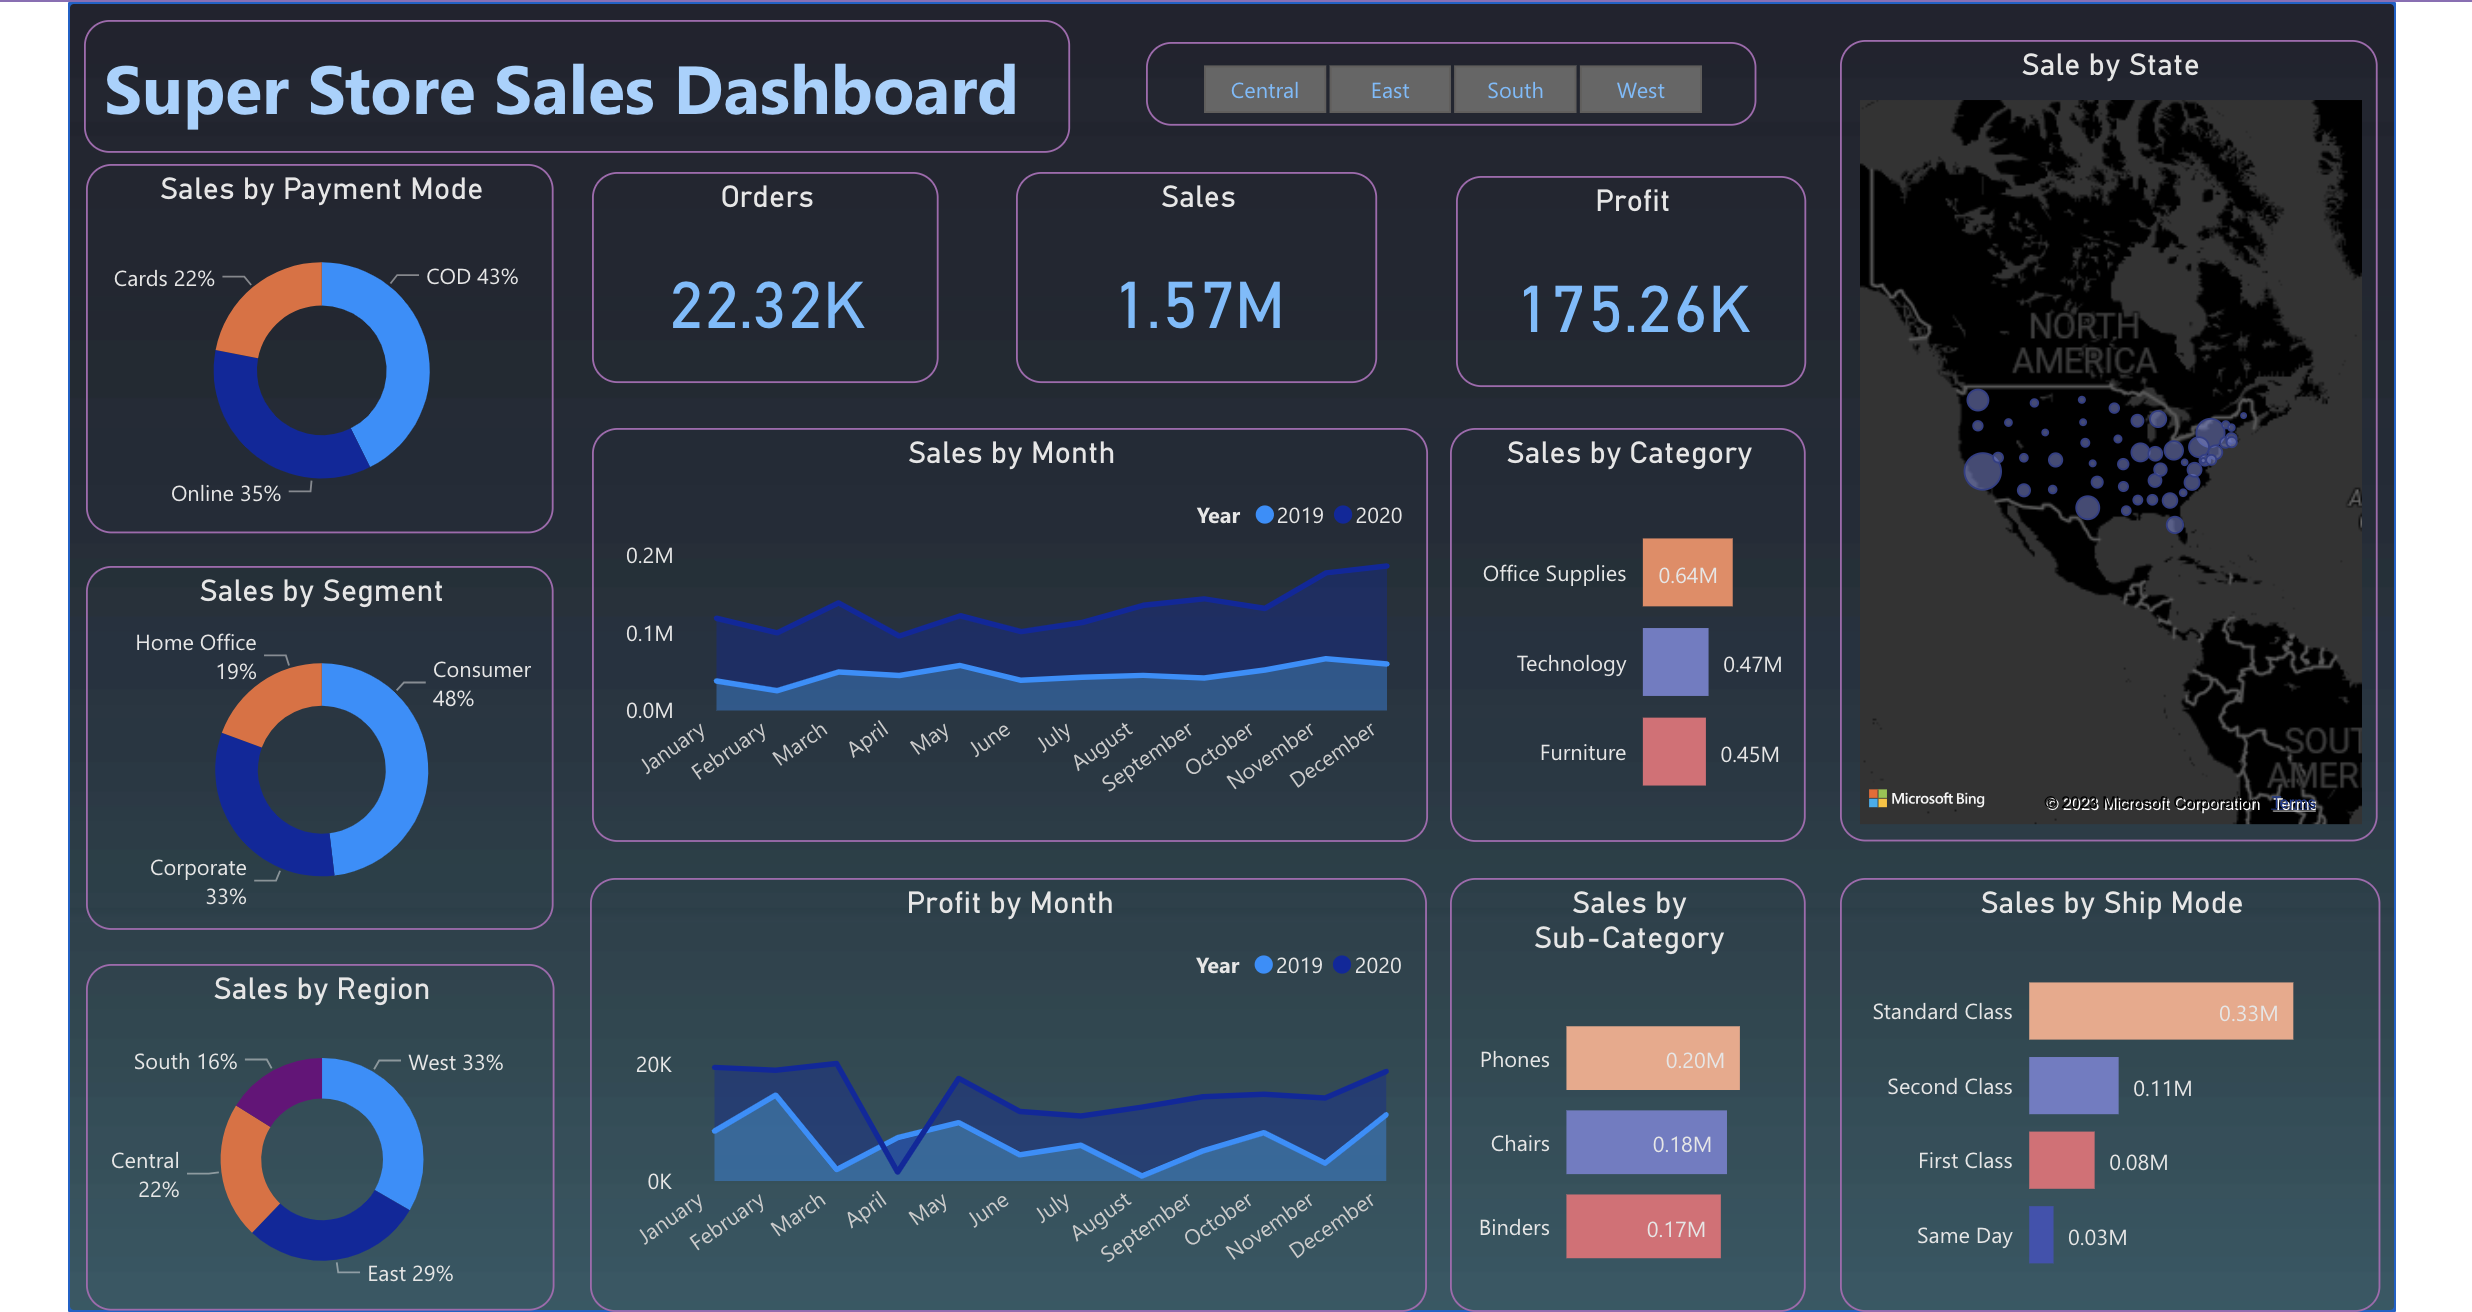

Layout of this report page (visuals, bound fields, positions):
{"tool":"powerbi","page":{"name":"Page 1","canvas":[1280,720],"ordinal":0},"visuals":[{"type":"clusteredBarChart","title":"Sales by Category","fields":{"Category":["SuperStore_Sales_Dataset.Category"],"Y":["Sum(SuperStore_Sales_Dataset.Sales)"]},"box":[768.6,225.7,195.7,227.1],"z":0},{"type":"clusteredBarChart","title":"Sales by Sub-Category","fields":{"Category":["SuperStore_Sales_Dataset.Sub-Category"],"Y":["Sum(SuperStore_Sales_Dataset.Sales)"]},"box":[768.6,481.4,195.7,238.6],"z":1000},{"type":"clusteredBarChart","title":"Sales by Ship Mode","fields":{"Category":["SuperStore_Sales_Dataset.Ship Mode"],"Y":["Sum(SuperStore_Sales_Dataset.Sales)"]},"box":[974.3,481.4,297.1,238.6],"z":2000},{"type":"stackedAreaChart","title":"Sales by Month","fields":{"Y":["Sum(SuperStore_Sales_Dataset.Sales)"],"Series":["SuperStore_Sales_Dataset.Order Date.Variation.Date Hierarchy.Year"],"Category":["SuperStore_Sales_Dataset.Order Date.Variation.Date Hierarchy.Month","SuperStore_Sales_Dataset.Order Date.Variation.Date Hierarchy.Day"]},"box":[287.1,225.7,460,227.1],"z":3000},{"type":"stackedAreaChart","title":"Profit by Month","fields":{"Series":["SuperStore_Sales_Dataset.Order Date.Variation.Date Hierarchy.Year"],"Category":["SuperStore_Sales_Dataset.Order Date.Variation.Date Hierarchy.Month","SuperStore_Sales_Dataset.Order Date.Variation.Date Hierarchy.Day"],"Y":["Sum(SuperStore_Sales_Dataset.Profit)"]},"box":[287.1,481.4,460,238.6],"z":4000},{"type":"map","title":"Sale by State","fields":{"Category":["SuperStore_Sales_Dataset.State"],"Size":["Sum(SuperStore_Sales_Dataset.Sales)"]},"box":[974.3,12.9,295.7,440],"z":5000},{"type":"donutChart","title":"Sales by Segment","fields":{"Category":["SuperStore_Sales_Dataset.Segment"],"Y":["Sum(SuperStore_Sales_Dataset.Sales)"]},"box":[10,305.7,257.1,200],"z":6000},{"type":"donutChart","title":"Sales by Payment Mode","fields":{"Category":["SuperStore_Sales_Dataset.Payment Mode"],"Y":["Sum(SuperStore_Sales_Dataset.Sales)"]},"box":[10,88.6,257.1,202.9],"z":7000},{"type":"slicer","fields":{"Values":["SuperStore_Sales_Dataset.Region"]},"box":[618.6,12.9,334.3,45.7],"z":8000},{"type":"textbox","box":[0,12.9,605.7,62.9],"z":9000},{"type":"card","title":"Sales","fields":{"Values":["Sum(SuperStore_Sales_Dataset.Sales)"]},"box":[505.7,88.6,198.6,117.1],"z":10000},{"type":"card","title":"Orders","fields":{"Values":["Sum(SuperStore_Sales_Dataset.Quantity)"]},"box":[287.1,88.6,191.4,117.1],"z":11000},{"type":"card","title":"Profit","fields":{"Values":["Sum(SuperStore_Sales_Dataset.Profit)"]},"box":[735.7,88.6,192.9,117.1],"z":12000},{"type":"donutChart","title":"Sales by Region","fields":{"Category":["SuperStore_Sales_Dataset.Region","SuperStore_Sales_Dataset.Payment Mode"],"Y":["Sum(SuperStore_Sales_Dataset.Sales)"]},"box":[10,528.6,257.1,191.4],"z":13000}]}

Visuals, with their boxes on the page's 1280x720 design canvas (x1, y1, x2, y2). These are canvas units, not pixel positions in the 2472x1312 screenshot, which may show the page scaled, cropped or inside an application window:
"Sales by Category" clusteredBarChart: detection(769, 226, 964, 453)
"Sales by Sub-Category" clusteredBarChart: detection(769, 481, 964, 720)
"Sales by Ship Mode" clusteredBarChart: detection(974, 481, 1271, 720)
"Sales by Month" stackedAreaChart: detection(287, 226, 747, 453)
"Profit by Month" stackedAreaChart: detection(287, 481, 747, 720)
"Sale by State" map: detection(974, 13, 1270, 453)
"Sales by Segment" donutChart: detection(10, 306, 267, 506)
"Sales by Payment Mode" donutChart: detection(10, 89, 267, 292)
slicer - SuperStore_Sales_Dataset.Region: detection(619, 13, 953, 59)
textbox: detection(0, 13, 606, 76)
"Sales" card: detection(506, 89, 704, 206)
"Orders" card: detection(287, 89, 478, 206)
"Profit" card: detection(736, 89, 929, 206)
"Sales by Region" donutChart: detection(10, 529, 267, 720)
